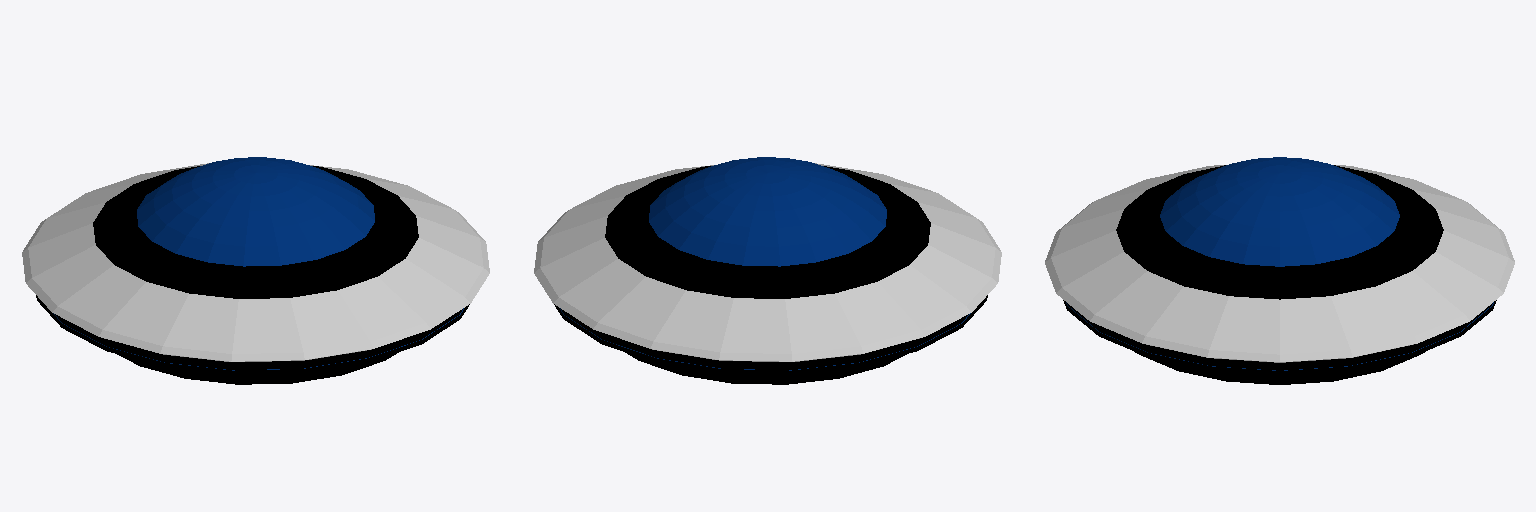
File: antiFKR.obj
The picture shows the model from 3 angles: view 1: azimuth 30°, elevation 25°; view 2: azimuth 150°, elevation 25°; view 3: azimuth 270°, elevation 25°; orthographic projection.
Parts seen in each view (by area): view 1: polySurface1 group1; view 2: polySurface1 group1; view 3: polySurface1 group1.
Boxes of the visible parts, x1,y1,x2,y2 form: polySurface1 group1: [22, 157, 489, 384]; polySurface1 group1: [534, 157, 1001, 384]; polySurface1 group1: [1045, 157, 1514, 384].
Bounding box in the file's own units: 2.68 × 1.04 × 2.68.